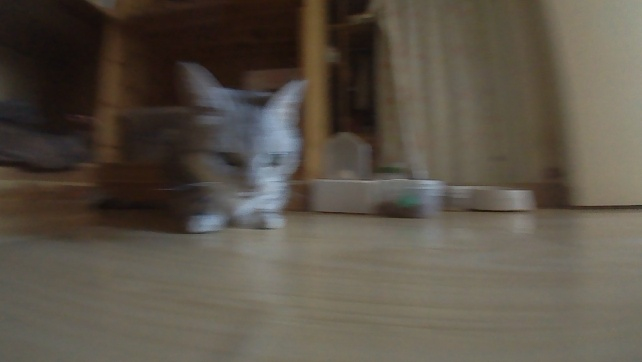cat: (82, 58, 307, 232)
